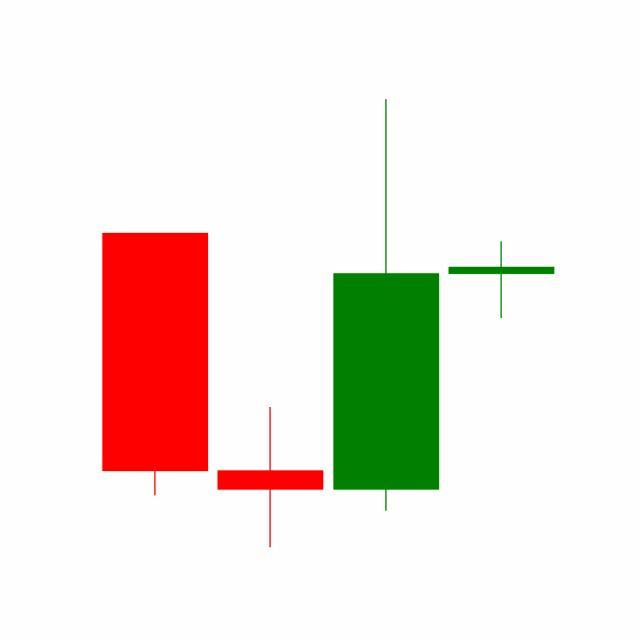Spinning Top: (444, 240, 560, 320)
